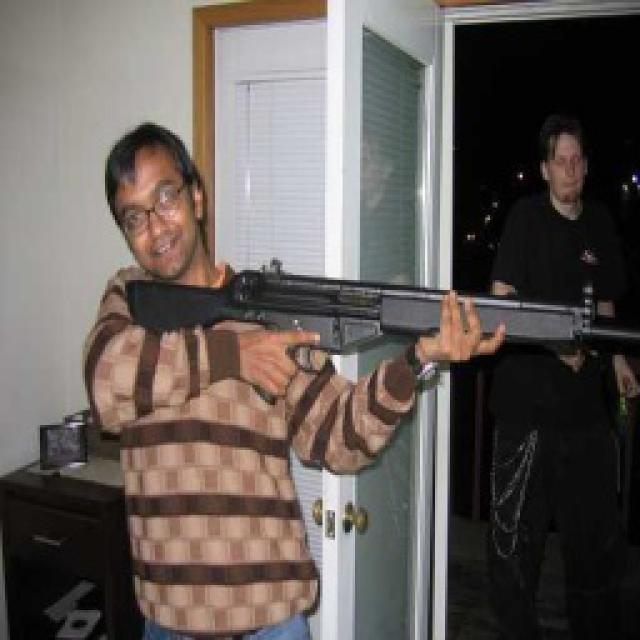long weapon: (115, 238, 628, 406)
